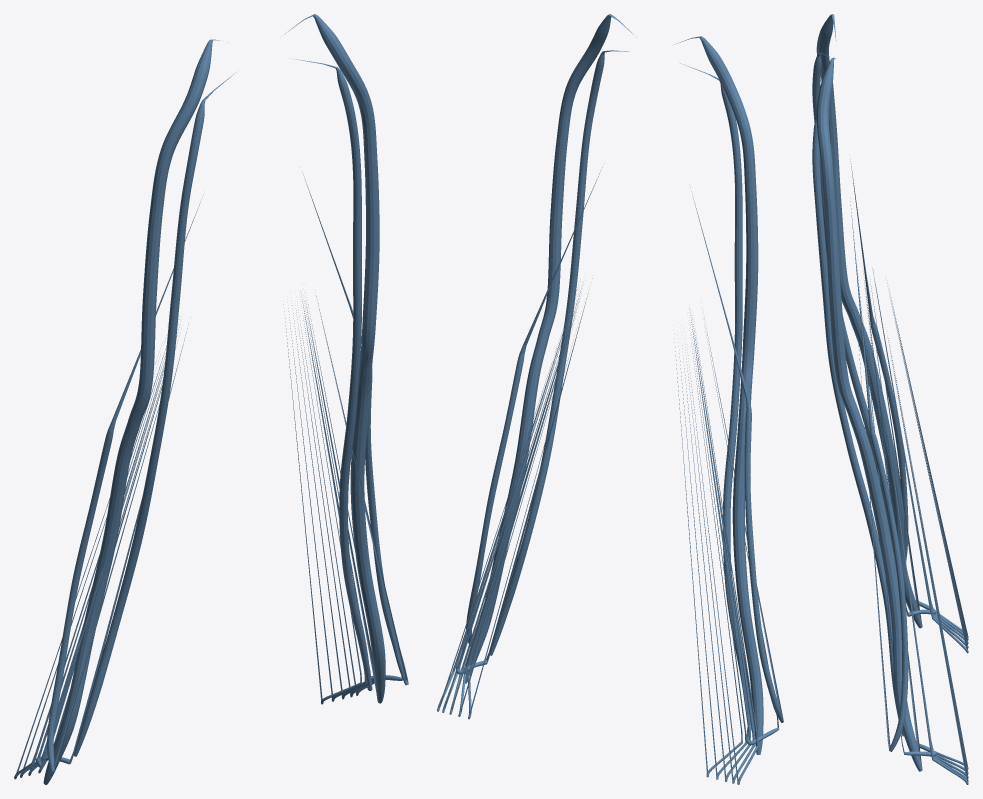
Rendered from leg_veins.glb.
3 renders of one model, left to right at view 1: azimuth 30°, elevation 25°; view 2: azimuth 150°, elevation 25°; view 3: azimuth 270°, elevation 25°, orthographic. The views are drawn at different scales.
Visible parts, largest first — view 1: leg_veins; view 2: leg_veins; view 3: leg_veins.
Part boxes in pixels (left/top/right/bottom): leg_veins: left=14, top=14, right=408, bottom=784; leg_veins: left=437, top=14, right=783, bottom=784; leg_veins: left=812, top=14, right=968, bottom=784.
Bounding box in the file's own units: 0.4398 × 0.887 × 0.1861.
